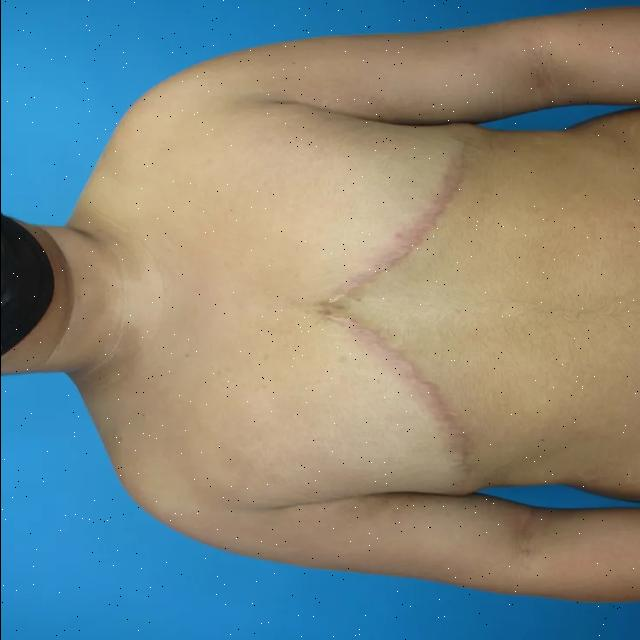Seno herido: (274, 113, 486, 304), (274, 312, 486, 502)
